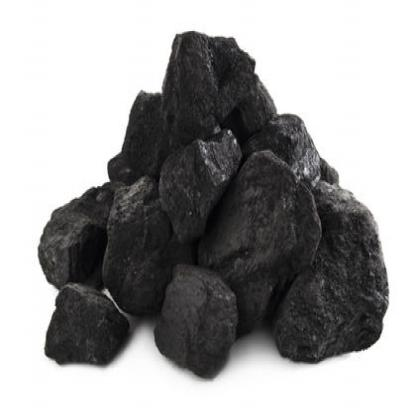Sedimentary_coal: (234, 172, 391, 353), (160, 12, 288, 156), (97, 172, 198, 295), (152, 261, 235, 371), (36, 278, 134, 358)
